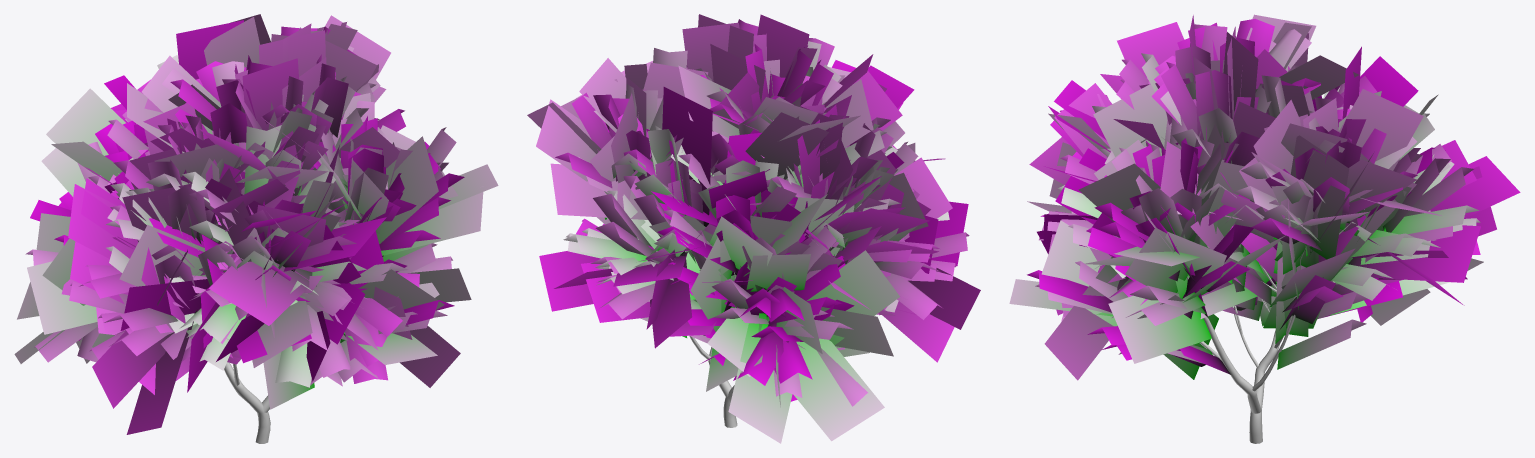
Rendered from rowan_02.fbx.
The picture shows the model from 3 angles, left to right: view 1: azimuth 30°, elevation 25°; view 2: azimuth 150°, elevation 25°; view 3: azimuth 270°, elevation 25°; orthographic projection. The views are drawn at different scales.
Parts seen in each view (by area): view 1: rowan_leaves_02_shadow, rowan_leaves_02_lod0, rowan_tree_02_lod0; view 2: rowan_leaves_02_shadow, rowan_leaves_02_lod0, rowan_tree_02_lod0; view 3: rowan_leaves_02_shadow, rowan_leaves_02_lod0, rowan_tree_02_lod0.
Part boxes in pixels (left/top/right/bottom): rowan_leaves_02_shadow: left=14, top=14, right=498, bottom=434; rowan_leaves_02_lod0: left=25, top=26, right=464, bottom=387; rowan_tree_02_lod0: left=224, top=362, right=270, bottom=443; rowan_leaves_02_shadow: left=527, top=14, right=980, bottom=443; rowan_leaves_02_lod0: left=555, top=19, right=969, bottom=406; rowan_tree_02_lod0: left=689, top=272, right=737, bottom=427; rowan_leaves_02_shadow: left=1009, top=14, right=1520, bottom=380; rowan_leaves_02_lod0: left=1027, top=18, right=1480, bottom=374; rowan_tree_02_lod0: left=1186, top=248, right=1305, bottom=443.
Size of what is drawn, in the model's own units: 5.87 by 5.78 by 6.48.
